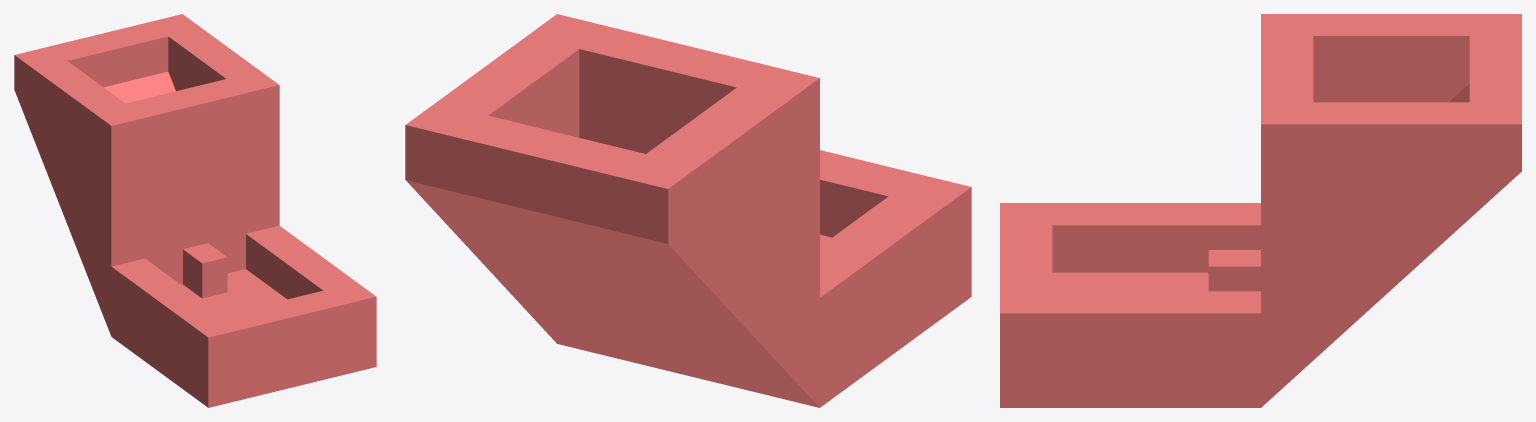
3 renders of one model, left to right at view 1: azimuth 30°, elevation 25°; view 2: azimuth 150°, elevation 25°; view 3: azimuth 270°, elevation 25°, orthographic. The views are drawn at different scales.
Parts seen in each view (by area): view 1: LDrawPart; view 2: LDrawPart; view 3: LDrawPart.
Part boxes in pixels (<box>): LDrawPart: <box>14,14,376,407</box>; LDrawPart: <box>405,14,971,407</box>; LDrawPart: <box>1000,14,1521,407</box>.
Size of the model in its own units: 0.14 by 0.168 by 0.28.
